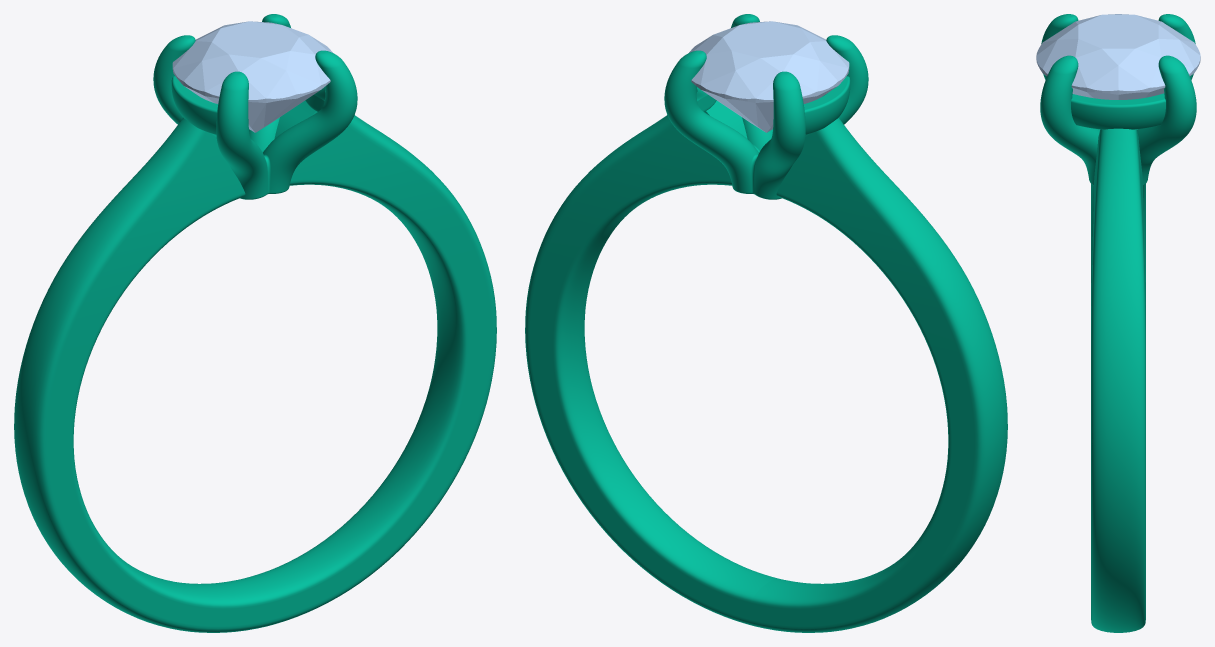
3 renders of one model, left to right at view 1: azimuth 30°, elevation 25°; view 2: azimuth 150°, elevation 25°; view 3: azimuth 270°, elevation 25°, orthographic.
Visible parts, largest first — view 1: JTC 8300(front).3dm, Diamond_Round; view 2: JTC 8300(front).3dm, Diamond_Round; view 3: JTC 8300(front).3dm, Diamond_Round.
Part boxes in pixels (box(x1,y1,x2,y2)): JTC 8300(front).3dm: box(14, 14, 496, 632); Diamond_Round: box(172, 21, 332, 132); JTC 8300(front).3dm: box(525, 14, 1007, 632); Diamond_Round: box(689, 21, 849, 132); JTC 8300(front).3dm: box(1040, 14, 1196, 632); Diamond_Round: box(1036, 14, 1200, 99).
Size of the model in its own units: 2.52 by 3 by 0.7754.
